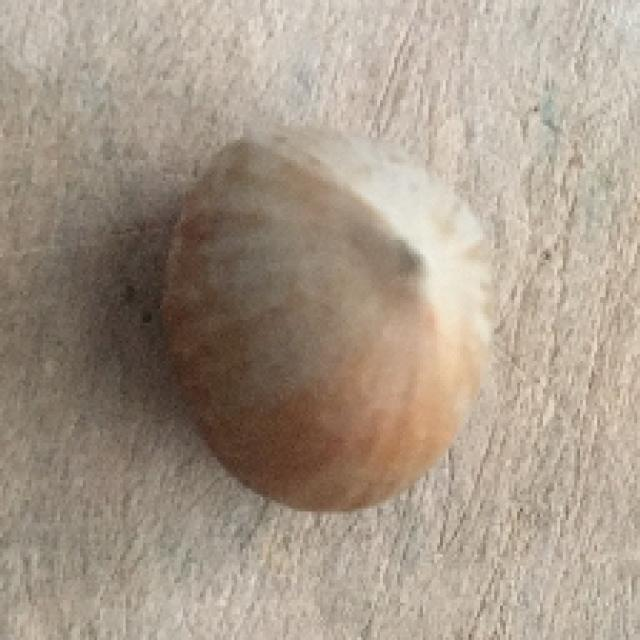qualityHazelnut: (134, 112, 509, 514)
